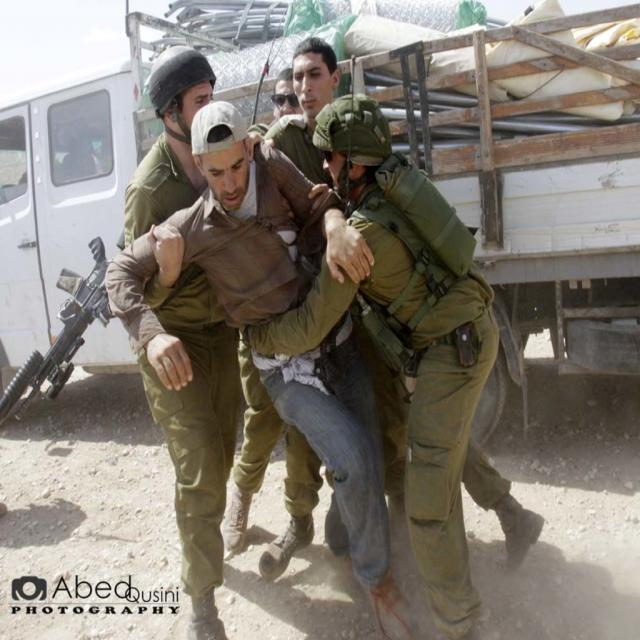fight: (49, 19, 626, 640)
